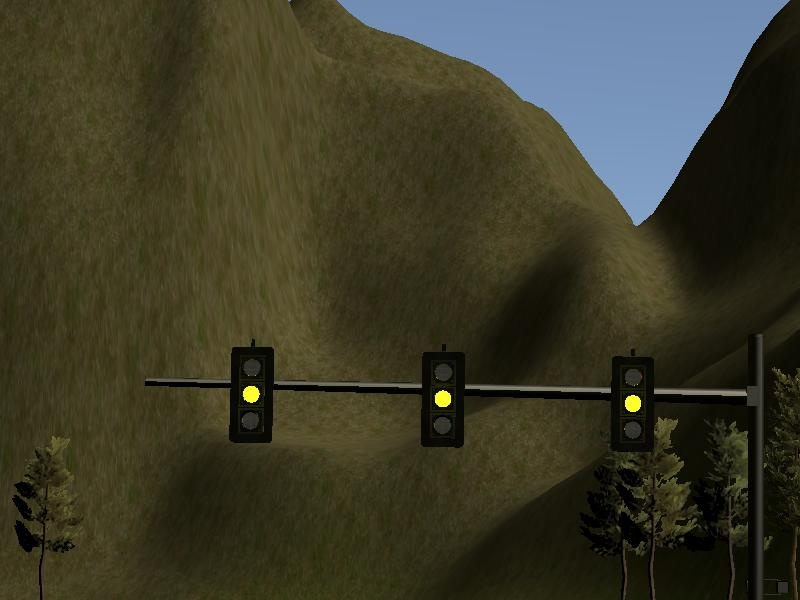yellow: (605, 344, 660, 461), (225, 334, 279, 449), (416, 339, 469, 451)
